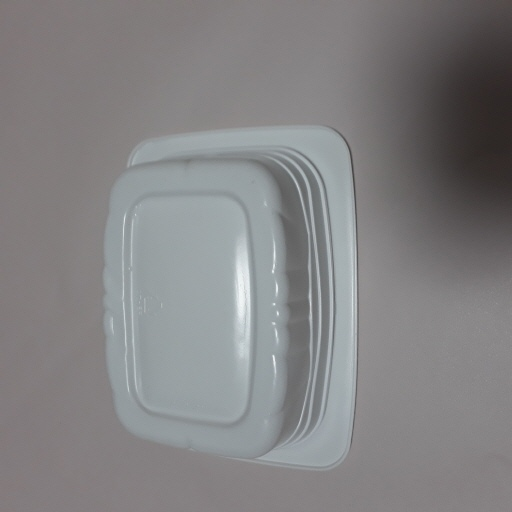Plastic_4: (101, 122, 359, 471)
